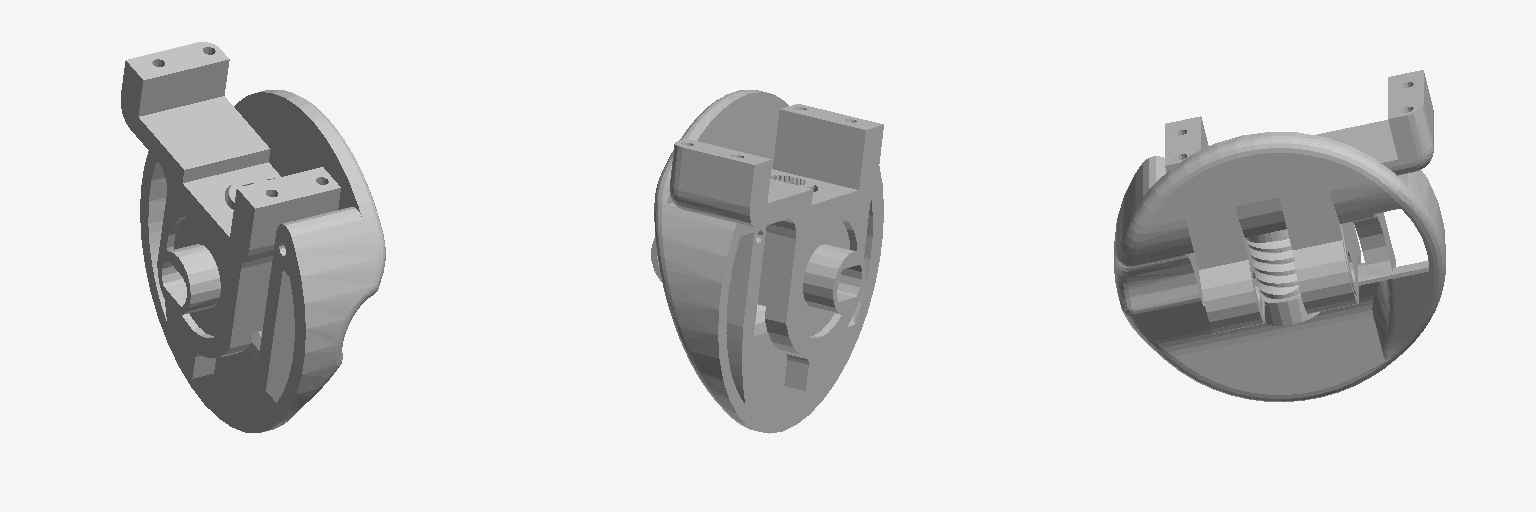
File: thumb_1.obj
The picture shows the model from 3 angles: view 1: azimuth 30°, elevation 25°; view 2: azimuth 150°, elevation 25°; view 3: azimuth 270°, elevation 25°; orthographic projection.
Parts seen in each view (by area): view 1: thumb_metacarpals_base1; view 2: thumb_metacarpals_base1; view 3: thumb_metacarpals_base1.
Part boxes in pixels (left/top/right/bottom): thumb_metacarpals_base1: left=121, top=42, right=385, bottom=432; thumb_metacarpals_base1: left=651, top=90, right=883, bottom=433; thumb_metacarpals_base1: left=1114, top=70, right=1445, bottom=401.
Bounding box in the file's own units: 0.0227 × 0.0419 × 0.04.